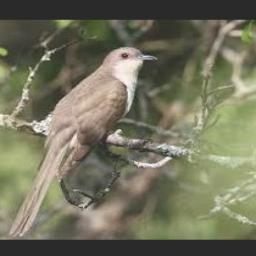Cuckoo: (11, 46, 157, 237)
